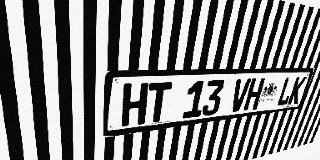1: (182, 80, 207, 119)
3: (201, 80, 225, 116)
H: (121, 83, 149, 127), (243, 78, 265, 111)
K: (287, 76, 307, 105)
L: (276, 77, 296, 106)
T: (145, 82, 172, 124)
V: (228, 79, 251, 113)
